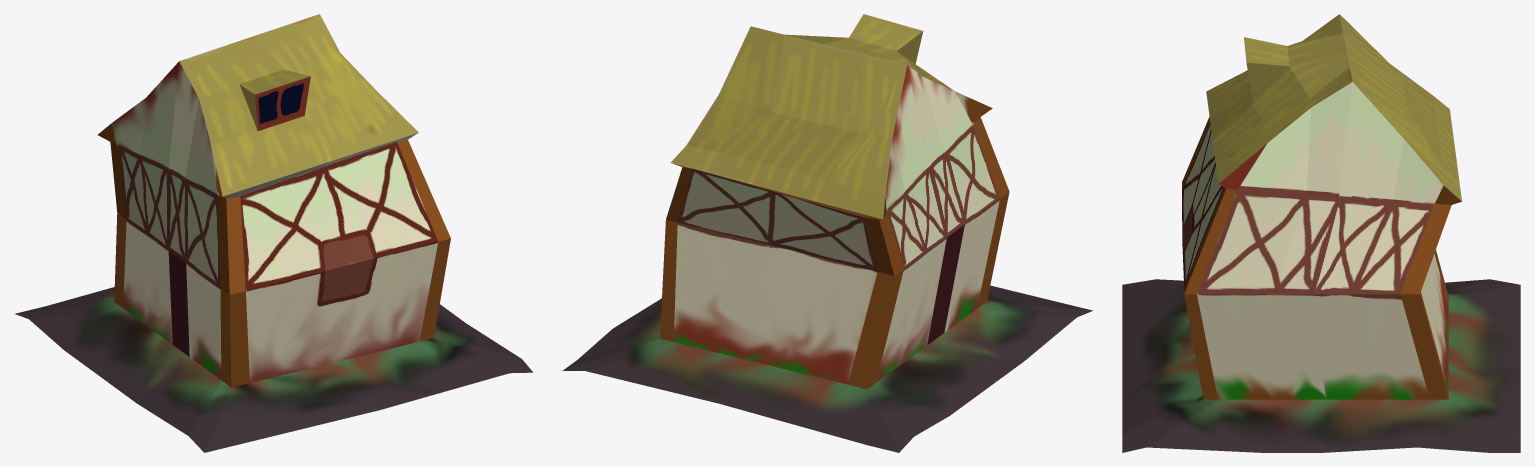
Rendered from House3.fbx.
3 renders of one model, left to right at view 1: azimuth 30°, elevation 25°; view 2: azimuth 150°, elevation 25°; view 3: azimuth 270°, elevation 25°, orthographic. The views are drawn at different scales.
Parts seen in each view (by area): view 1: House1; view 2: House1; view 3: House1.
Boxes of the visible parts, x1,y1,x2,y2 form: House1: (15,14,532,452); House1: (562,14,1092,452); House1: (1122,14,1520,452).
Bounding box in the file's own units: 325 × 286 × 325.
